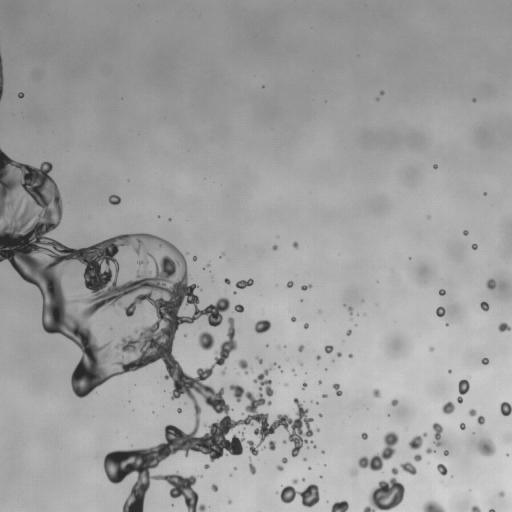droplet: (477, 438, 496, 457), (407, 432, 427, 450), (197, 331, 215, 350), (399, 461, 417, 475), (254, 319, 271, 333), (440, 400, 455, 414), (331, 500, 349, 511), (500, 401, 511, 417), (108, 194, 121, 205), (437, 463, 448, 475), (498, 322, 511, 332), (280, 240, 291, 251), (186, 263, 197, 274), (221, 287, 232, 298), (217, 321, 228, 332), (189, 336, 200, 347), (210, 342, 221, 353), (170, 346, 181, 357), (73, 347, 84, 358), (227, 350, 238, 361), (154, 358, 165, 369), (242, 380, 253, 391), (222, 391, 233, 402), (380, 391, 391, 402), (183, 403, 194, 414), (436, 412, 447, 423), (465, 416, 476, 427), (180, 423, 191, 434), (274, 425, 285, 436), (421, 436, 432, 447), (469, 436, 480, 447), (492, 438, 503, 449), (374, 441, 385, 452), (258, 446, 269, 457), (166, 452, 177, 463), (158, 458, 169, 469), (381, 458, 392, 469), (126, 471, 137, 482), (380, 471, 391, 482), (396, 471, 407, 482), (294, 481, 305, 492), (421, 492, 432, 503), (360, 495, 371, 506), (434, 495, 445, 506), (486, 278, 496, 290), (435, 306, 445, 317), (232, 304, 244, 313), (480, 301, 489, 311), (476, 415, 485, 425), (31, 160, 40, 169), (46, 229, 55, 238), (465, 234, 474, 243), (71, 240, 80, 249), (436, 296, 445, 305), (197, 300, 206, 309), (220, 309, 229, 318), (232, 311, 241, 320), (199, 313, 208, 322), (294, 318, 303, 327), (177, 322, 186, 331), (207, 325, 216, 334), (246, 357, 255, 366), (67, 362, 76, 371), (165, 378, 174, 387), (307, 378, 316, 387), (240, 396, 249, 405), (255, 404, 264, 413), (229, 411, 238, 420), (288, 411, 297, 420), (381, 425, 390, 434), (132, 441, 141, 450), (120, 442, 129, 451), (476, 452, 485, 461), (485, 454, 494, 463), (503, 433, 511, 443), (425, 447, 436, 454), (141, 504, 152, 511), (324, 345, 333, 353), (372, 388, 380, 397), (468, 408, 476, 417), (505, 328, 511, 339), (505, 488, 511, 499), (178, 505, 189, 511), (306, 505, 317, 511), (414, 505, 425, 511), (286, 280, 294, 288), (297, 344, 305, 352), (481, 357, 489, 365), (390, 398, 398, 406), (413, 454, 422, 461), (301, 380, 307, 390), (471, 505, 481, 511), (292, 241, 299, 249), (360, 432, 368, 439), (211, 484, 218, 492), (0, 219, 5, 230), (347, 306, 353, 315), (443, 448, 450, 455), (5, 150, 12, 157), (59, 194, 66, 201), (61, 206, 68, 213), (116, 228, 123, 235), (178, 245, 185, 252), (184, 254, 191, 261), (2, 258, 9, 265), (229, 277, 236, 284), (480, 278, 487, 285), (494, 280, 501, 287), (293, 282, 300, 289), (480, 283, 487, 290), (228, 301, 235, 308), (498, 316, 505, 323), (263, 329, 270, 336), (53, 331, 60, 338), (196, 345, 203, 352), (318, 348, 325, 355), (329, 350, 336, 357), (341, 350, 348, 357), (223, 357, 230, 364), (261, 361, 268, 368), (201, 362, 208, 369), (214, 364, 221, 371), (137, 366, 144, 373), (126, 369, 133, 376), (190, 371, 197, 378), (202, 378, 209, 385), (269, 382, 276, 389), (93, 385, 100, 392), (212, 385, 219, 392), (242, 385, 249, 392), (88, 390, 95, 397), (69, 391, 76, 398), (180, 392, 187, 399), (450, 397, 457, 404), (242, 410, 249, 417), (305, 411, 312, 418), (266, 417, 273, 424), (428, 428, 435, 435), (266, 433, 273, 440), (406, 434, 413, 441), (287, 441, 294, 448), (436, 446, 443, 453), (413, 447, 420, 454), (177, 448, 184, 455), (284, 451, 291, 458), (203, 453, 210, 460), (232, 453, 239, 460), (286, 454, 293, 461), (351, 459, 358, 466), (411, 460, 418, 467), (364, 465, 371, 472), (148, 467, 155, 474), (166, 468, 173, 475), (433, 469, 440, 476), (181, 471, 188, 478), (148, 478, 155, 485), (312, 478, 319, 485), (108, 481, 115, 488), (190, 483, 197, 490), (402, 490, 409, 497), (294, 494, 301, 501), (177, 495, 184, 502), (325, 503, 332, 510), (459, 422, 465, 430), (506, 443, 511, 452), (479, 506, 488, 511), (471, 243, 477, 250), (224, 278, 230, 285), (438, 289, 445, 295), (276, 465, 283, 471), (18, 92, 24, 98), (272, 244, 278, 250), (297, 361, 303, 367), (281, 457, 287, 463), (498, 491, 504, 497), (346, 328, 351, 335), (335, 352, 342, 357), (379, 90, 385, 95), (462, 230, 468, 235), (192, 256, 197, 262), (291, 316, 296, 322), (303, 323, 308, 329), (429, 346, 434, 352), (204, 464, 210, 469), (507, 320, 511, 327), (116, 507, 123, 511), (387, 507, 394, 511), (317, 309, 322, 314), (348, 353, 353, 358), (316, 355, 321, 360), (283, 382, 288, 387), (1, 68, 6, 73), (1, 83, 6, 88), (378, 85, 383, 90), (1, 91, 6, 96), (375, 92, 380, 97), (378, 94, 383, 99), (48, 158, 53, 163), (22, 159, 27, 164), (51, 164, 56, 169), (47, 171, 52, 176), (56, 184, 61, 189), (117, 192, 122, 197), (113, 203, 118, 208), (59, 218, 64, 223), (463, 225, 468, 230), (136, 228, 141, 233), (143, 228, 148, 233), (121, 229, 126, 234), (151, 230, 156, 235), (110, 232, 115, 237), (157, 232, 162, 237), (102, 235, 107, 240), (163, 235, 168, 240), (168, 238, 173, 243), (273, 239, 278, 244), (288, 239, 293, 244), (270, 240, 275, 245), (297, 241, 302, 246), (67, 243, 72, 248), (267, 244, 272, 249), (288, 244, 293, 249), (276, 246, 281, 251), (180, 249, 185, 254), (186, 267, 191, 272), (12, 269, 17, 274), (235, 276, 240, 281), (493, 276, 498, 281), (186, 281, 191, 286), (28, 282, 33, 287), (244, 285, 249, 290), (235, 287, 240, 292), (485, 287, 490, 292), (192, 289, 197, 294), (211, 300, 216, 305), (37, 306, 42, 311), (351, 309, 356, 314), (37, 310, 42, 315), (289, 311, 294, 316), (261, 315, 266, 320), (495, 321, 500, 326), (250, 322, 255, 327), (233, 324, 238, 329), (342, 327, 347, 332), (494, 327, 499, 332), (251, 329, 256, 334), (503, 329, 508, 334), (224, 335, 229, 340), (232, 335, 237, 340), (66, 338, 71, 343), (295, 341, 300, 346), (428, 341, 433, 346), (302, 347, 307, 352), (312, 351, 317, 356), (352, 352, 357, 357), (478, 354, 483, 359), (210, 358, 215, 363), (245, 366, 250, 371), (239, 368, 244, 373), (258, 368, 263, 373), (252, 373, 257, 378), (460, 374, 465, 379), (111, 375, 116, 380), (467, 379, 472, 384), (237, 381, 242, 386), (255, 381, 260, 386), (372, 384, 377, 389), (453, 384, 458, 389), (468, 384, 473, 389), (331, 388, 336, 393), (260, 389, 265, 394), (378, 389, 383, 394), (368, 391, 373, 396), (455, 391, 460, 396), (262, 393, 267, 398), (460, 393, 465, 398), (390, 394, 395, 399), (318, 396, 323, 401), (373, 396, 378, 401), (173, 397, 178, 402), (297, 398, 302, 403), (386, 399, 391, 404), (441, 399, 446, 404), (396, 401, 401, 406), (301, 404, 306, 409), (471, 404, 476, 409), (190, 408, 195, 413), (496, 409, 501, 414), (279, 410, 284, 415), (240, 414, 245, 419), (473, 414, 478, 419), (500, 414, 505, 419), (483, 415, 488, 420), (308, 421, 313, 426), (479, 423, 484, 428), (278, 424, 283, 429), (312, 430, 317, 435), (366, 431, 371, 436), (417, 431, 422, 436), (439, 431, 444, 436), (306, 435, 311, 440), (366, 435, 371, 440), (358, 437, 363, 442), (274, 442, 279, 447), (301, 442, 306, 447), (430, 444, 435, 449), (315, 446, 320, 451), (298, 447, 303, 452), (188, 449, 193, 454), (257, 450, 262, 455), (250, 454, 255, 459), (99, 457, 104, 462), (213, 457, 218, 462), (401, 458, 406, 463), (252, 461, 257, 466), (304, 461, 309, 466), (280, 462, 285, 467), (444, 463, 449, 468), (244, 465, 249, 470), (397, 466, 402, 471), (228, 467, 233, 472), (231, 469, 236, 474), (275, 469, 280, 474), (446, 469, 451, 474), (101, 472, 106, 477), (291, 473, 296, 478), (296, 475, 301, 480), (287, 481, 292, 486), (216, 483, 221, 488), (277, 487, 282, 492), (208, 488, 213, 493), (317, 488, 322, 493), (503, 489, 508, 494), (165, 492, 170, 497), (275, 493, 280, 498), (498, 496, 503, 501), (336, 497, 341, 502), (119, 500, 124, 505), (329, 500, 334, 505), (281, 501, 286, 506), (473, 501, 478, 506), (313, 502, 318, 507), (318, 379, 322, 385), (177, 407, 181, 413), (472, 97, 476, 102), (433, 164, 437, 169), (233, 290, 237, 295), (318, 413, 323, 417), (302, 457, 307, 461), (301, 477, 305, 482), (227, 499, 231, 504), (321, 394, 327, 397), (109, 327, 113, 331), (183, 333, 187, 337), (276, 345, 280, 349), (315, 401, 319, 405), (321, 450, 325, 454), (233, 466, 237, 470), (348, 318, 353, 321), (508, 400, 511, 405), (508, 412, 511, 417), (508, 450, 511, 455), (508, 453, 511, 458), (195, 508, 200, 511), (203, 508, 208, 511), (345, 508, 350, 511), (467, 508, 472, 511), (261, 85, 265, 88), (376, 97, 379, 101), (483, 192, 487, 195), (427, 215, 430, 219), (356, 312, 359, 316), (445, 323, 449, 326), (448, 369, 451, 373), (387, 413, 390, 417), (506, 453, 509, 457), (308, 466, 311, 470), (319, 475, 323, 478), (157, 215, 160, 218), (168, 218, 171, 221), (276, 235, 279, 238), (202, 267, 205, 270), (300, 299, 303, 302), (361, 299, 364, 302), (363, 312, 366, 315), (354, 323, 357, 326), (265, 344, 268, 347), (283, 345, 286, 348), (331, 359, 334, 362), (467, 375, 470, 378), (163, 389, 166, 392), (184, 402, 187, 405), (241, 412, 244, 415), (229, 473, 232, 476), (450, 475, 453, 478), (0, 56, 3, 59), (258, 84, 261, 87), (264, 84, 267, 87), (261, 87, 264, 90), (17, 89, 20, 92), (21, 89, 24, 92), (383, 89, 386, 92), (23, 93, 26, 96), (472, 94, 475, 97), (19, 97, 22, 100), (468, 98, 471, 101), (475, 98, 478, 101), (470, 101, 473, 104), (432, 161, 435, 164), (437, 164, 440, 167), (431, 167, 434, 170), (436, 167, 439, 170), (483, 188, 486, 191), (480, 191, 483, 194), (108, 192, 111, 195), (115, 192, 118, 195), (486, 192, 489, 195), (156, 211, 159, 214), (167, 214, 170, 217), (154, 215, 157, 218), (159, 215, 162, 218), (164, 217, 167, 220), (167, 220, 170, 223), (466, 233, 469, 236), (462, 234, 465, 237), (472, 240, 475, 243), (476, 242, 479, 245), (468, 244, 471, 247), (476, 246, 479, 249), (469, 247, 472, 250), (273, 249, 276, 252), (192, 252, 195, 255), (218, 252, 221, 255), (408, 253, 411, 256), (215, 255, 218, 258), (221, 255, 224, 258), (405, 257, 408, 260), (410, 257, 413, 260), (195, 259, 198, 262), (209, 261, 212, 264), (204, 266, 207, 269), (201, 269, 204, 272), (208, 272, 211, 275), (227, 276, 230, 279), (251, 276, 254, 279), (291, 278, 294, 281), (221, 279, 224, 282), (284, 280, 287, 283), (195, 282, 198, 285), (224, 282, 227, 285), (304, 282, 307, 285), (311, 283, 314, 286), (291, 284, 294, 287), (287, 287, 290, 290), (301, 289, 304, 292), (435, 290, 438, 293), (445, 290, 448, 293), (439, 294, 442, 297), (442, 294, 445, 297), (302, 299, 305, 302), (297, 300, 300, 303), (343, 300, 346, 303), (486, 300, 489, 303), (242, 304, 245, 307), (350, 304, 353, 307), (477, 304, 480, 307), (345, 305, 348, 308), (443, 306, 446, 309), (243, 307, 246, 310), (444, 310, 447, 313), (236, 311, 239, 314), (358, 311, 361, 314), (433, 312, 436, 315), (294, 314, 297, 317), (348, 314, 351, 317), (436, 315, 439, 318), (440, 315, 443, 318), (193, 319, 196, 322), (288, 319, 291, 322), (293, 320, 296, 323), (352, 320, 355, 323), (308, 323, 311, 326), (442, 323, 445, 326), (445, 325, 448, 328), (301, 327, 304, 330), (306, 327, 309, 330), (349, 333, 352, 336), (327, 342, 330, 345), (268, 343, 271, 346), (280, 343, 283, 346), (262, 344, 265, 347), (286, 344, 289, 347), (266, 346, 269, 349), (432, 349, 435, 352), (296, 350, 299, 353), (484, 354, 487, 357), (258, 355, 261, 358), (313, 357, 316, 360), (348, 357, 351, 360), (318, 358, 321, 361), (255, 359, 258, 362), (478, 359, 481, 362), (488, 359, 491, 362), (270, 360, 273, 363), (481, 363, 484, 366), (485, 363, 488, 366), (274, 364, 277, 367), (324, 364, 327, 367), (279, 366, 282, 369), (448, 366, 451, 369), (321, 367, 324, 370), (288, 368, 291, 371), (326, 369, 329, 372), (444, 369, 447, 372), (451, 369, 454, 372), (306, 370, 309, 373), (281, 371, 284, 374), (304, 380, 307, 383), (315, 380, 318, 383), (321, 380, 324, 383), (335, 380, 338, 383), (306, 383, 309, 386), (319, 383, 322, 386), (304, 386, 307, 389), (323, 391, 326, 394), (323, 396, 326, 399), (312, 400, 315, 403), (270, 402, 273, 405), (179, 405, 182, 408), (153, 408, 156, 411), (181, 408, 184, 411), (148, 410, 151, 413), (174, 410, 177, 413), (320, 411, 323, 414), (153, 412, 156, 415), (178, 412, 181, 415), (384, 412, 387, 415), (389, 412, 392, 415), (464, 423, 467, 426), (457, 426, 460, 429), (319, 428, 322, 431), (315, 444, 318, 447), (321, 447, 324, 450), (447, 448, 450, 451), (447, 453, 450, 456), (503, 454, 506, 457), (323, 460, 326, 463), (320, 463, 323, 466), (326, 463, 329, 466), (201, 464, 204, 467), (310, 465, 313, 468), (304, 466, 307, 469), (206, 467, 209, 470), (307, 469, 310, 472), (254, 471, 257, 474), (319, 472, 322, 475), (497, 489, 500, 492), (503, 494, 506, 497), (231, 499, 234, 502), (224, 500, 227, 503), (228, 503, 231, 506), (168, 504, 171, 507), (492, 506, 495, 509), (408, 257, 411, 259), (343, 304, 346, 306), (325, 368, 327, 371), (310, 400, 312, 403), (472, 432, 475, 434), (323, 464, 326, 466), (326, 500, 328, 503), (171, 503, 173, 506), (127, 179, 129, 181), (305, 372, 307, 374), (128, 400, 130, 402), (152, 411, 154, 413), (427, 461, 429, 463), (469, 489, 471, 491), (209, 271, 211, 272), (376, 281, 378, 282), (367, 408, 368, 410), (208, 506, 210, 507)
ligament: (349, 431, 400, 477), (0, 48, 7, 102), (456, 379, 469, 403), (421, 499, 446, 511), (432, 422, 443, 446), (238, 358, 253, 375), (235, 278, 254, 289), (332, 382, 342, 397), (248, 456, 256, 474), (300, 284, 312, 290), (255, 355, 262, 364), (291, 368, 296, 376), (219, 252, 225, 258), (206, 261, 210, 267), (211, 275, 214, 282), (488, 508, 495, 511)
